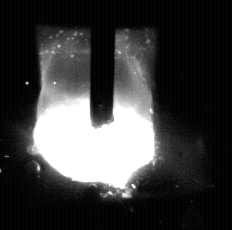arame: (91, 0, 115, 129)
poca: (32, 0, 156, 230)
